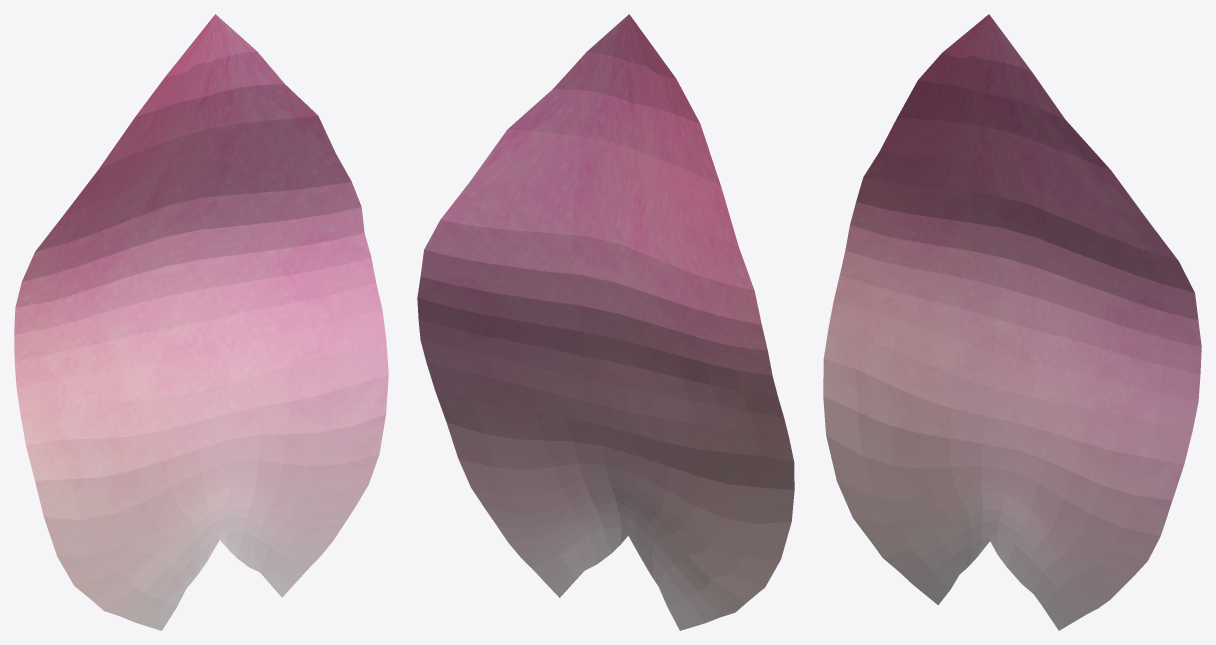
Rendered from kirschbluede_1.glb.
3 views of the same model, side by side, from view 1: azimuth 30°, elevation 25°; view 2: azimuth 150°, elevation 25°; view 3: azimuth 330°, elevation 25° (orthographic).
Parts seen in each view (by area): view 1: Plane; view 2: Plane; view 3: Plane.
Part boxes in pixels (box(x1,y1,x2,y2)): Plane: box(14, 14, 388, 630); Plane: box(417, 14, 794, 630); Plane: box(823, 14, 1201, 630).
Bounding box in the file's own units: 1.9 × 3 × 0.3122.
1 material, 1 textured.
